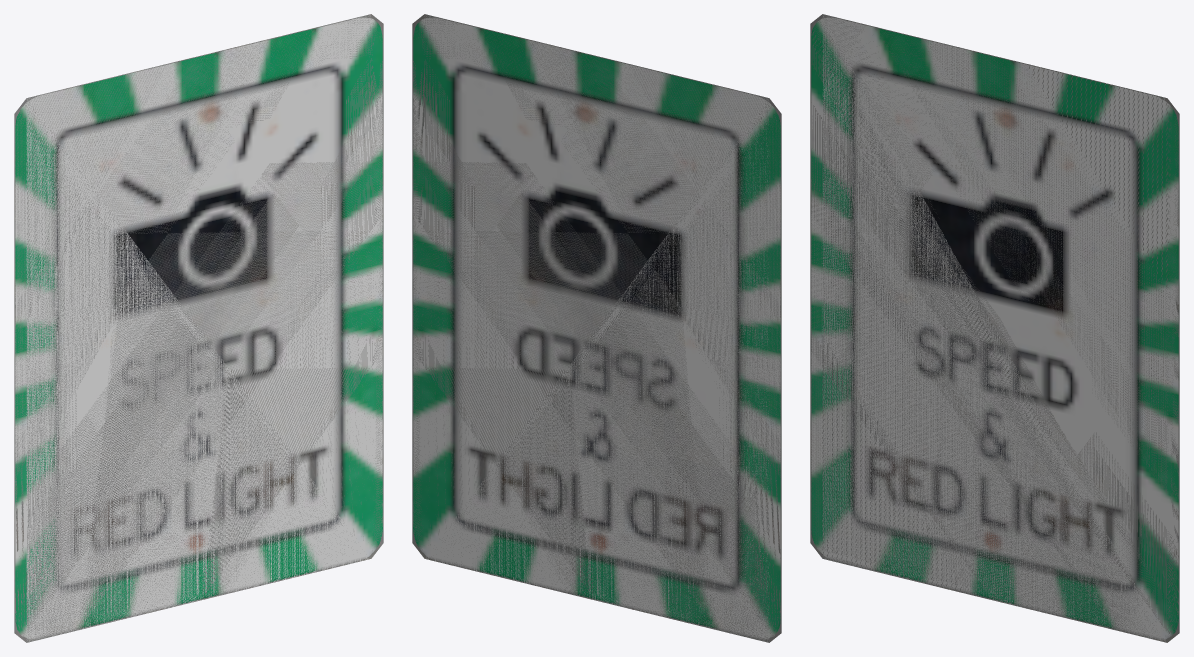
File: s_sign_speedlightcam.dae
3 renders of one model, left to right at view 1: azimuth 30°, elevation 25°; view 2: azimuth 150°, elevation 25°; view 3: azimuth 330°, elevation 25°, orthographic.
Visible parts, largest first — view 1: s_sign_speedlightcam_a030, s_sign_speedlightcam_a015; view 2: s_sign_speedlightcam_a030, s_sign_speedlightcam_a015; view 3: s_sign_speedlightcam_a030, s_sign_speedlightcam_a015.
Boxes of the visible parts, left/top/right/bottom form: s_sign_speedlightcam_a030: left=14, top=14, right=383, bottom=642; s_sign_speedlightcam_a015: left=26, top=15, right=370, bottom=641; s_sign_speedlightcam_a030: left=412, top=14, right=781, bottom=642; s_sign_speedlightcam_a015: left=424, top=14, right=769, bottom=642; s_sign_speedlightcam_a030: left=810, top=14, right=1179, bottom=642; s_sign_speedlightcam_a015: left=822, top=16, right=1165, bottom=642.
Size of the model in its own units: 0.7346 by 4.53e-08 by 1.04.
